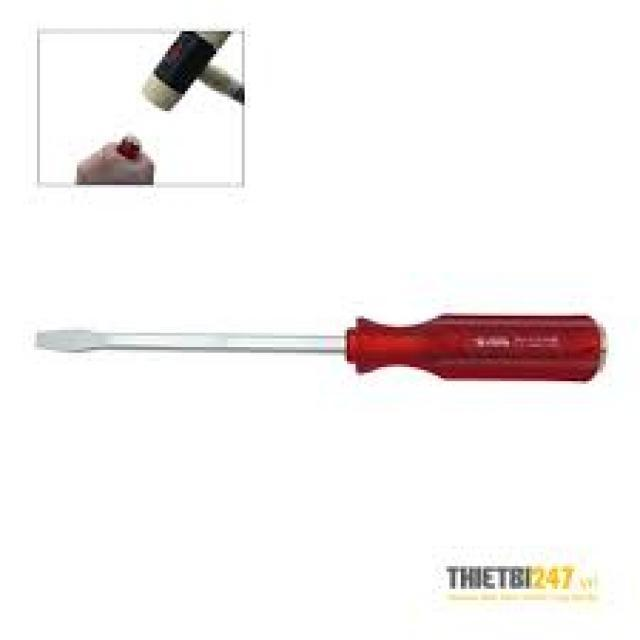screwdriver: (28, 310, 614, 384)
